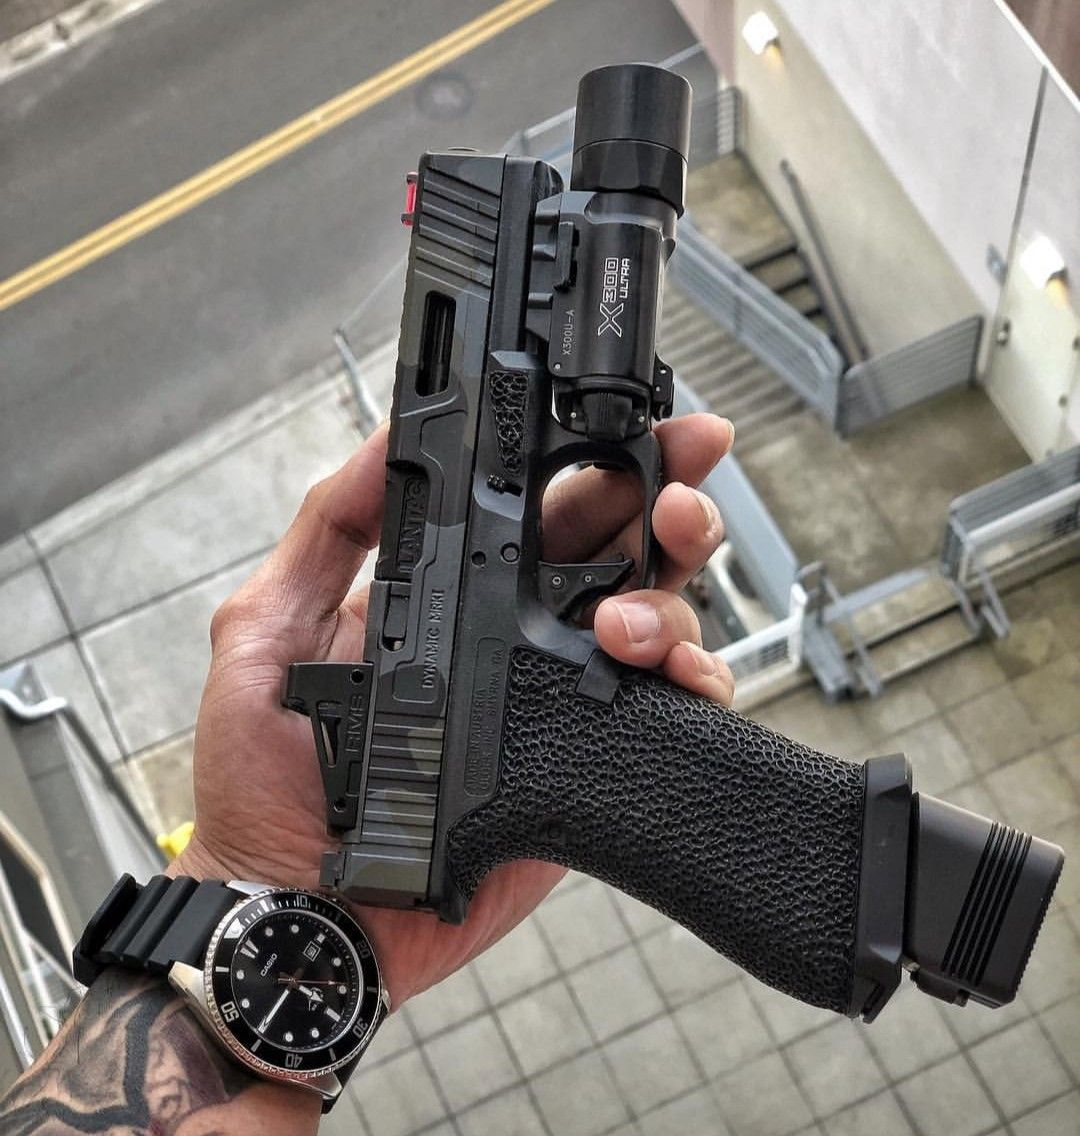gun: (262, 57, 1071, 1039)
